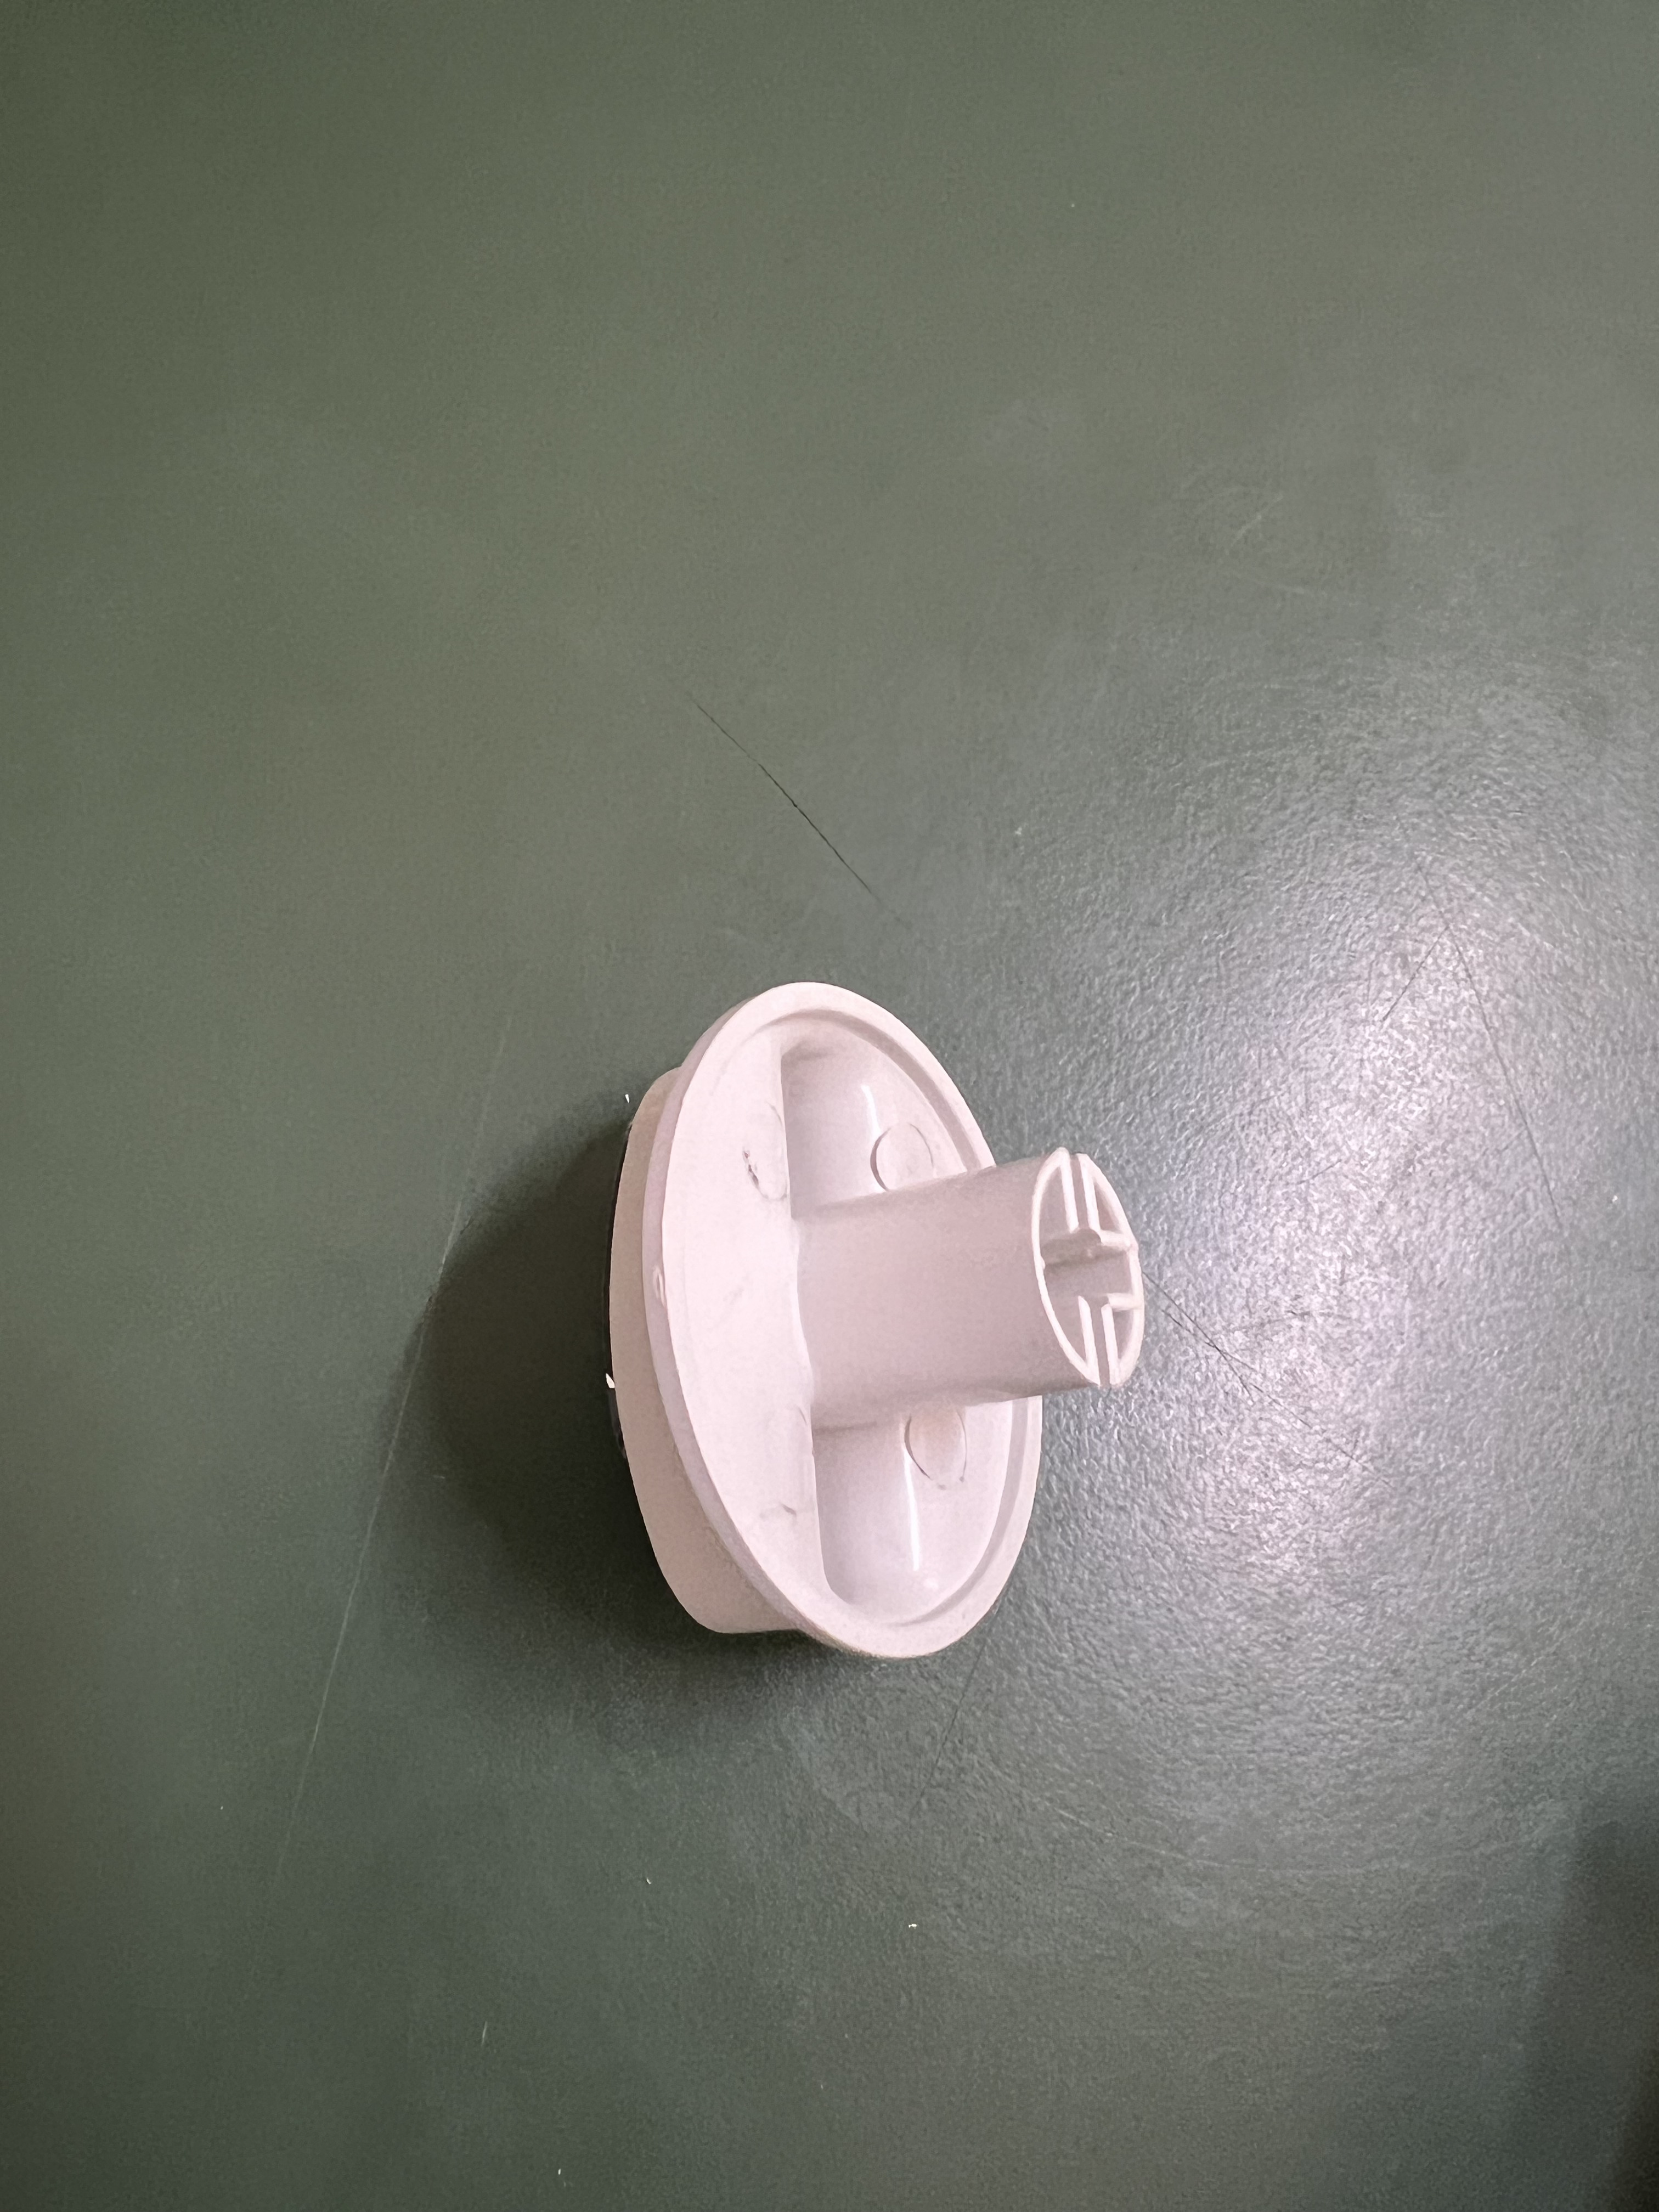regulator: (610, 962, 1151, 1688)
